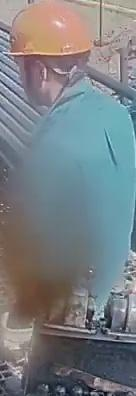helmet: (6, 1, 94, 66)
vest: (15, 80, 135, 312)
